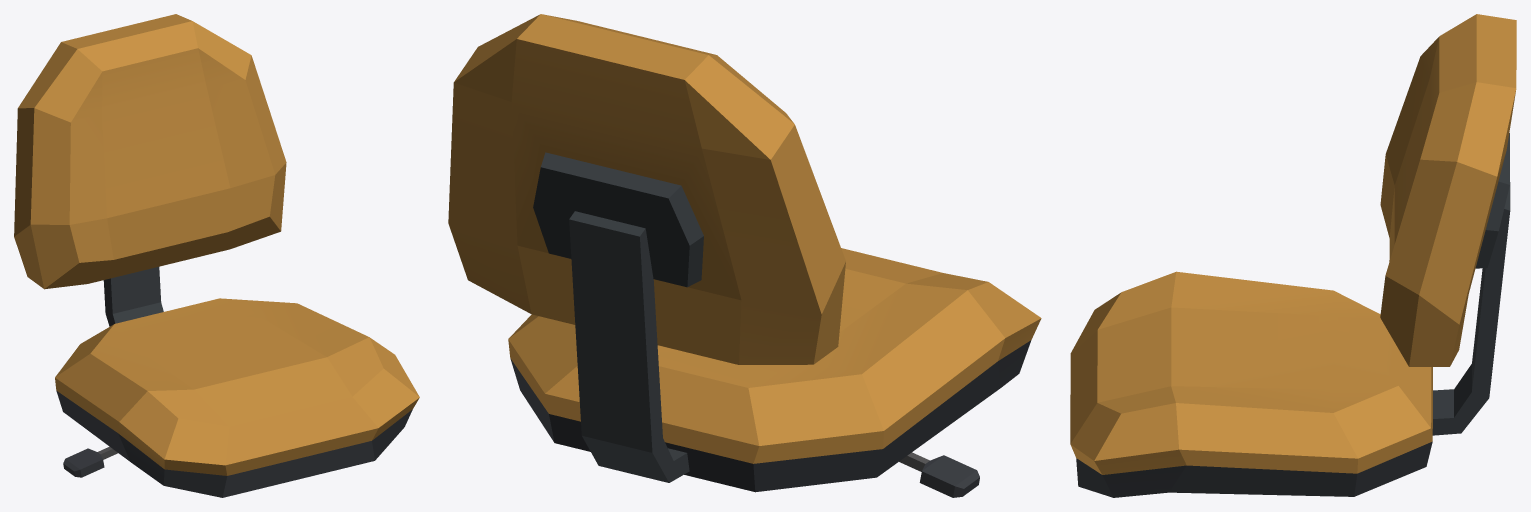
The model's file is SM_Prop_Shop_Chair_01_Seat.obj.
3 views of the same model, side by side, from view 1: azimuth 30°, elevation 25°; view 2: azimuth 150°, elevation 25°; view 3: azimuth 270°, elevation 25° (orthographic). The views are drawn at different scales.
Parts seen in each view (by area): view 1: SM_Prop_Shop_Chair_01_Seat_0; view 2: SM_Prop_Shop_Chair_01_Seat_0; view 3: SM_Prop_Shop_Chair_01_Seat_0.
Part boxes in pixels (box(x1,y1,x2,y2)): SM_Prop_Shop_Chair_01_Seat_0: box(14, 14, 419, 497); SM_Prop_Shop_Chair_01_Seat_0: box(448, 14, 1041, 497); SM_Prop_Shop_Chair_01_Seat_0: box(1070, 14, 1516, 497).
Size of the model in its own units: 0.5731 by 0.6404 by 0.63.
Materials: 1 (1 with a texture image).
